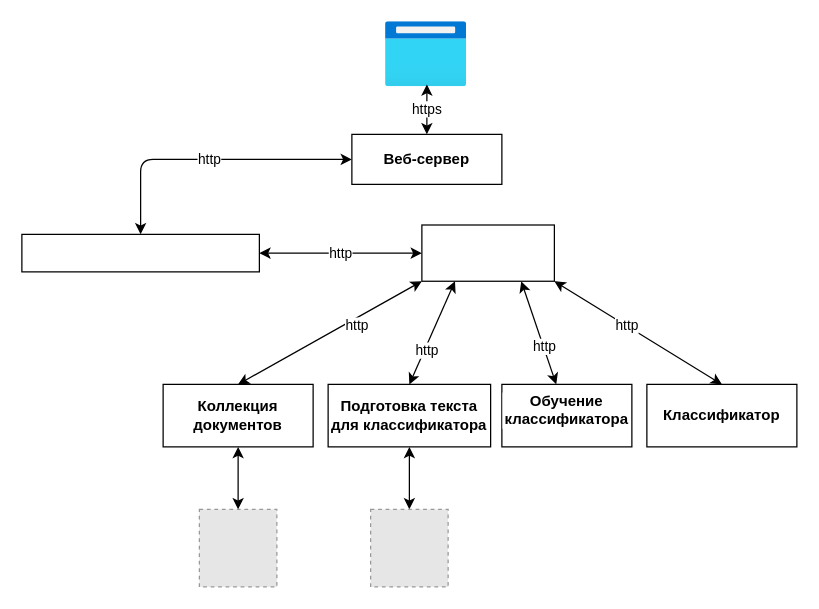
Image size: 819x609. Some labels were removed from this diagram. Grey dashed boxes stand in for pictures. Each missing label, with the centre of its shape:
"API Gateway (REST API)" goes at pixel 140 252.
"WEB UI" goes at pixel 425 53.
"Сервис обнаружения" goes at pixel 487 252.
